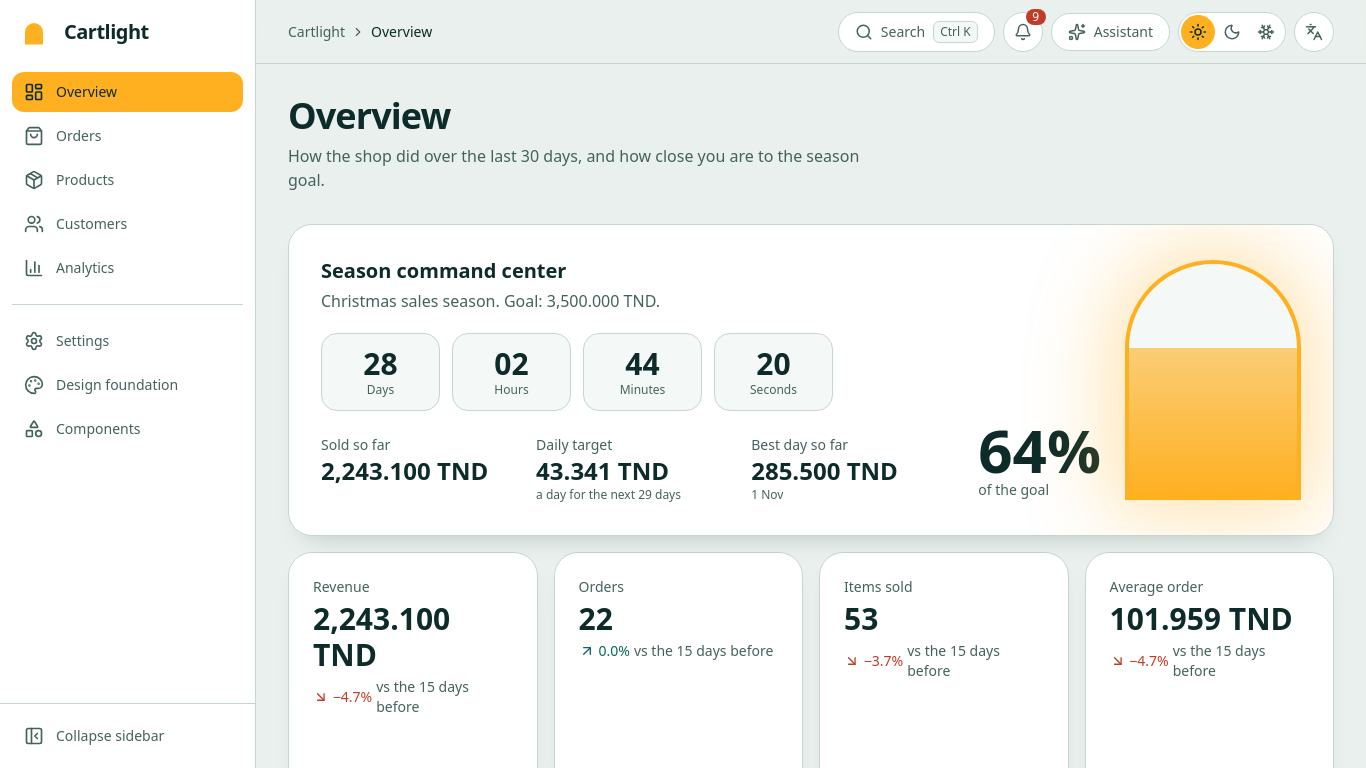
Test case: app shell › navigates between pages from the sidebar
Expected: the heading "Overview" is shown, [288, 91, 450, 140]
Click the link "Orders": (63, 136) [24, 126, 101, 146]
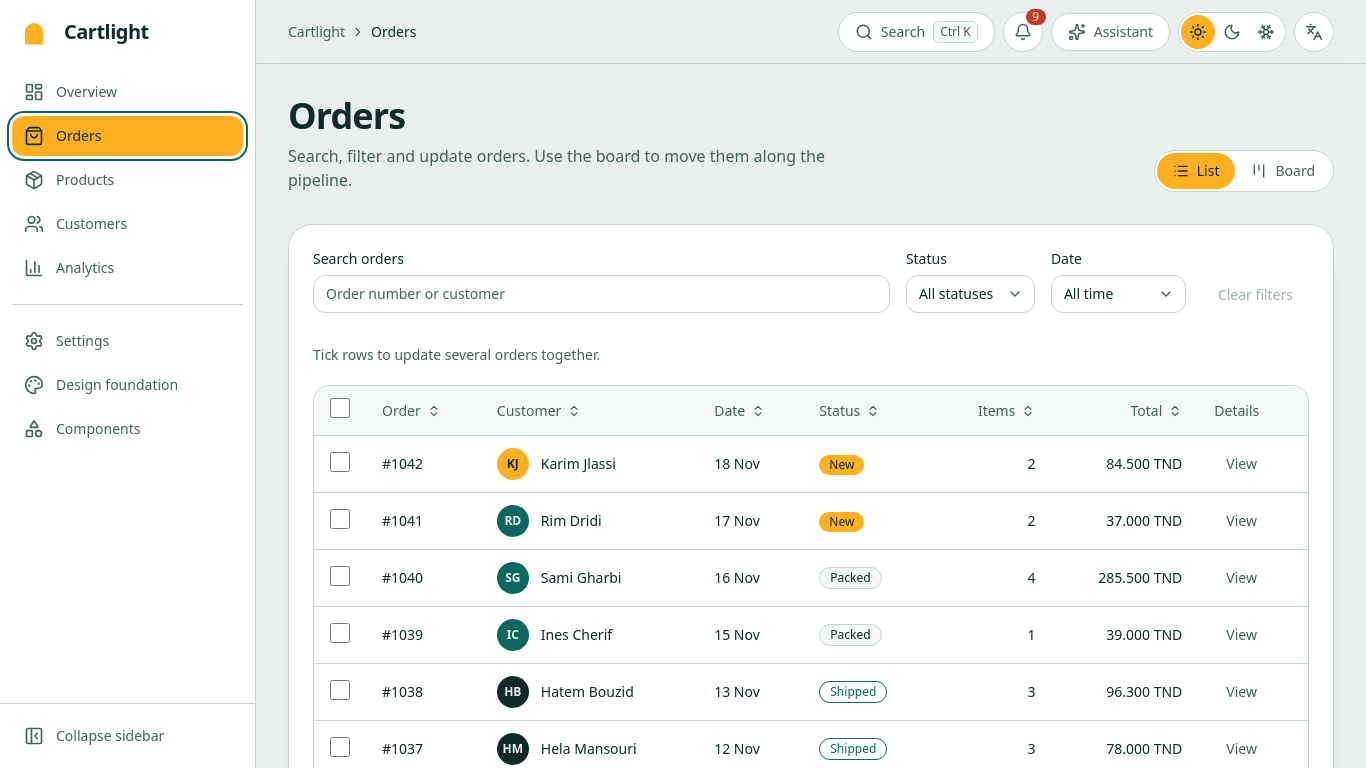
Expected: the heading "Orders" is shown, [288, 91, 405, 140]
